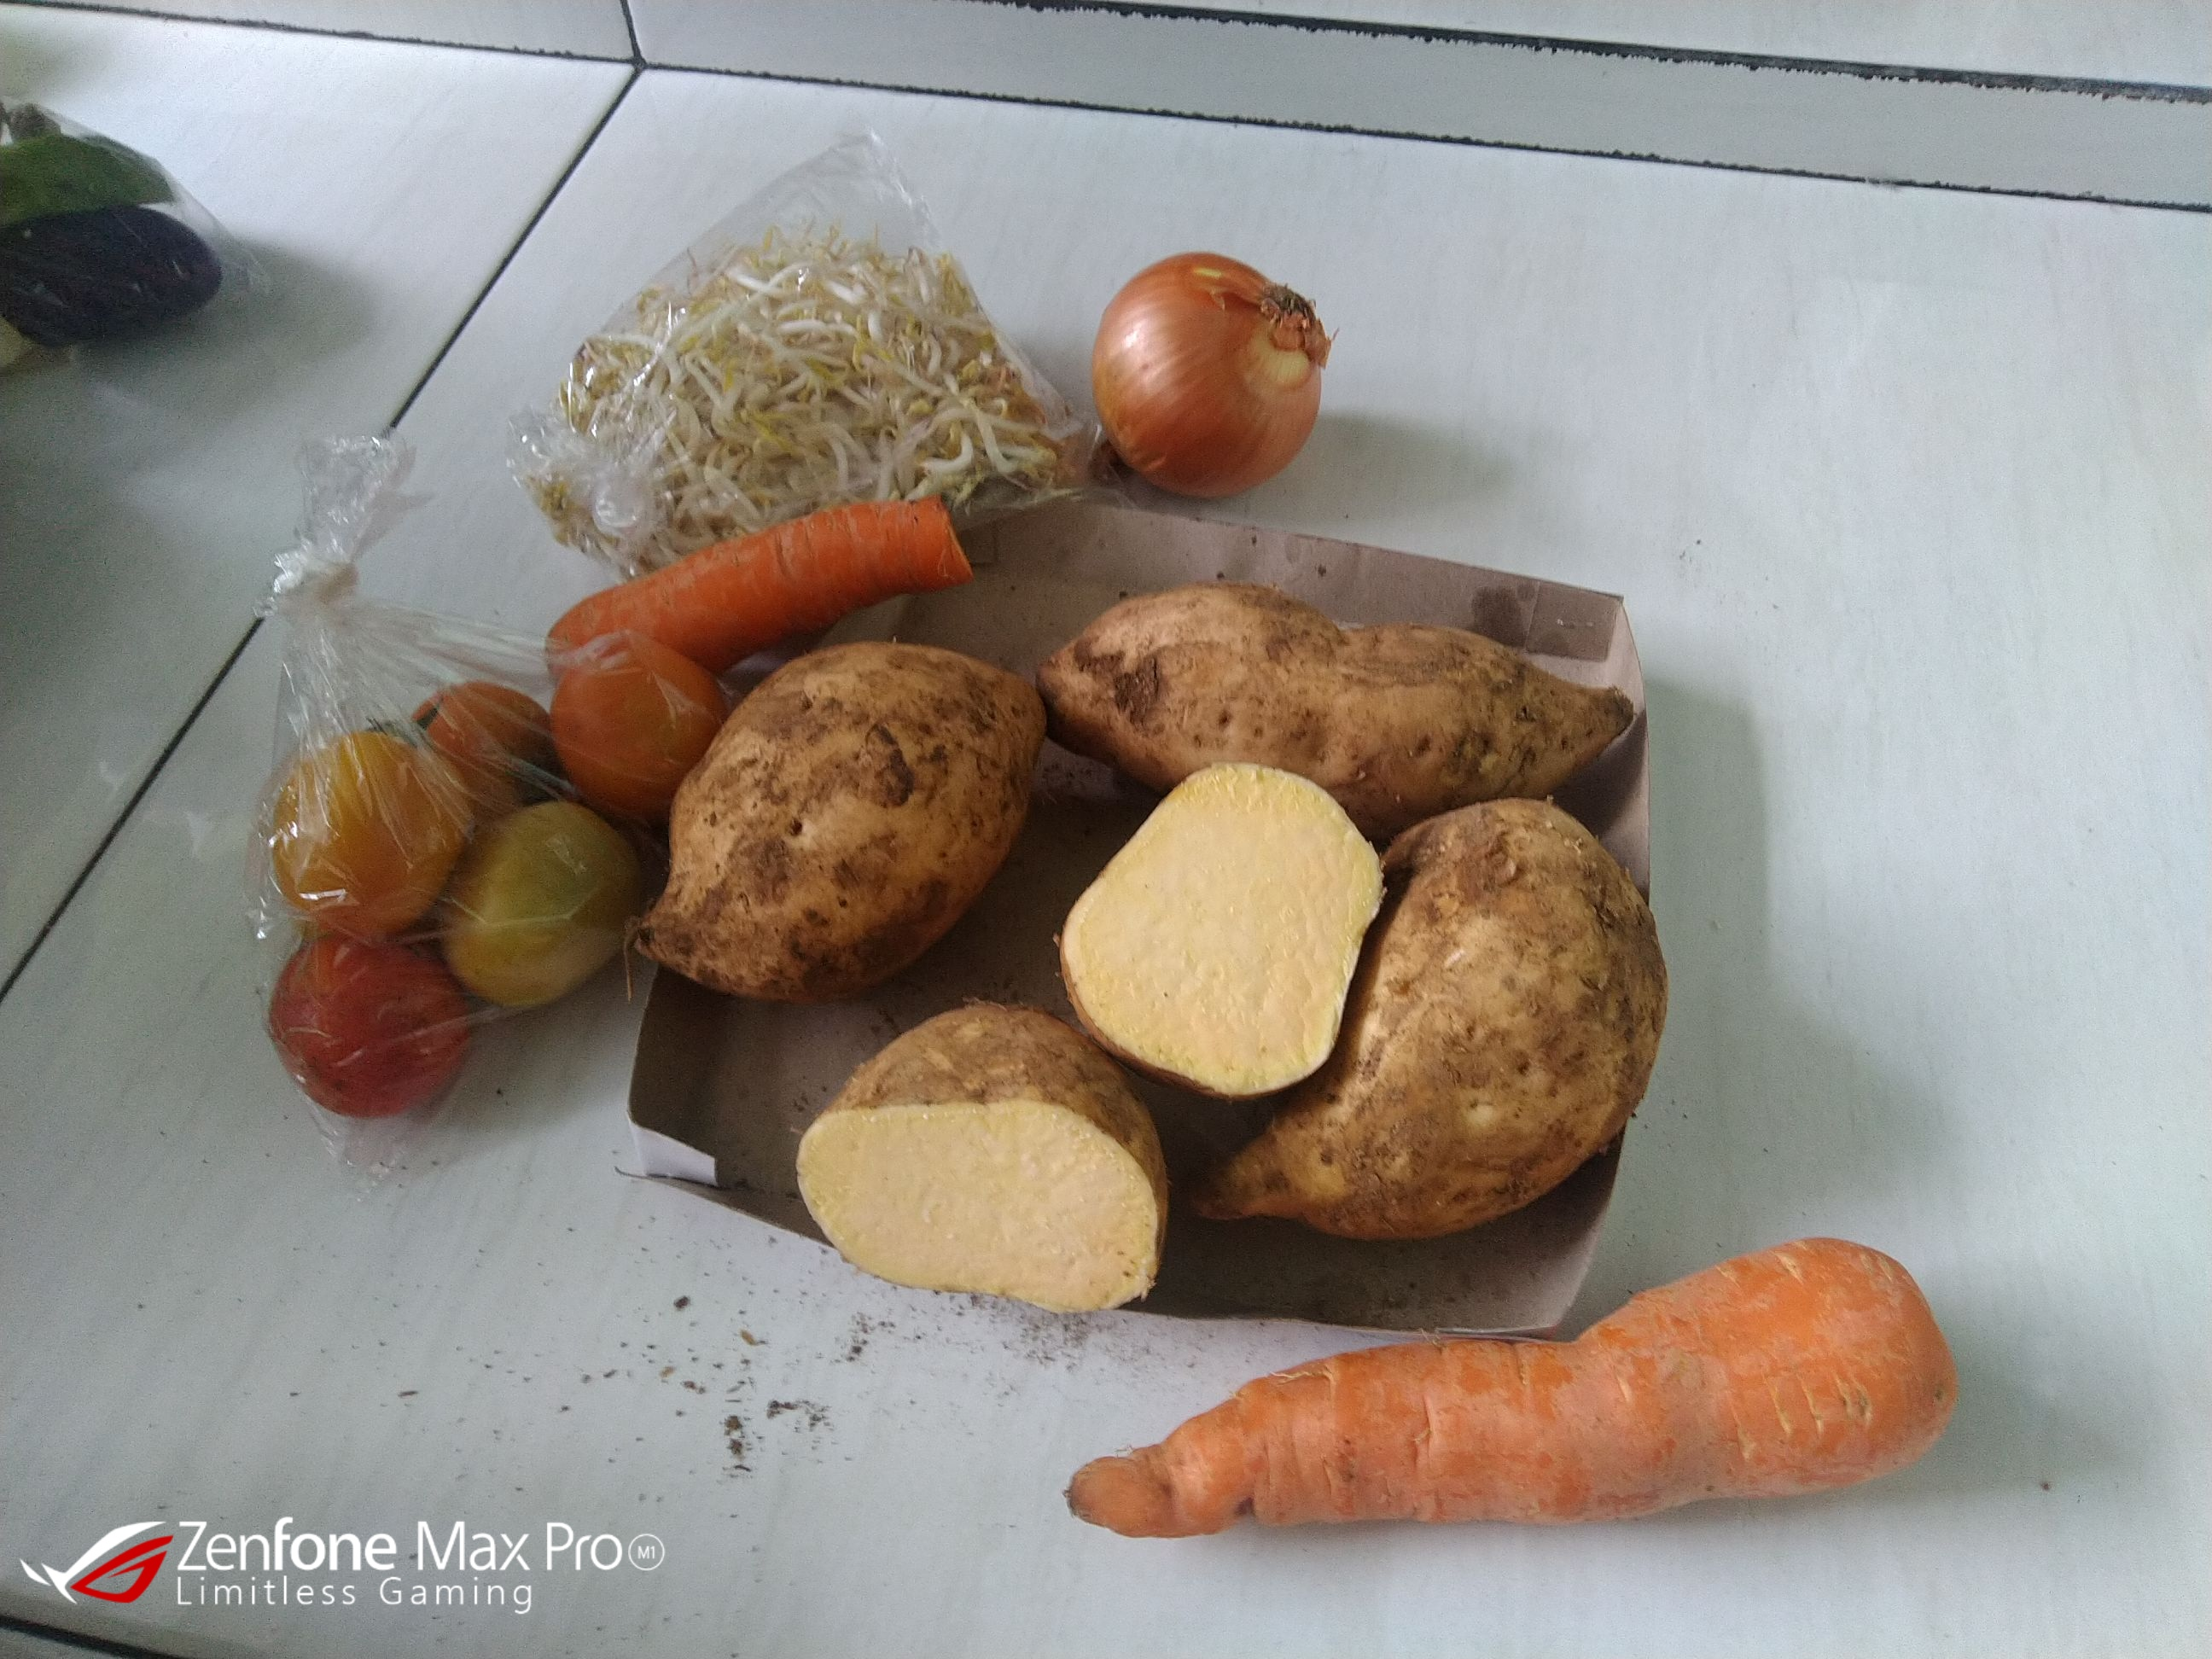ubi kuning: (1191, 786, 1679, 1260), (627, 641, 1050, 1007), (1040, 572, 1637, 802), (1019, 756, 1395, 1117), (810, 995, 1157, 1323)
